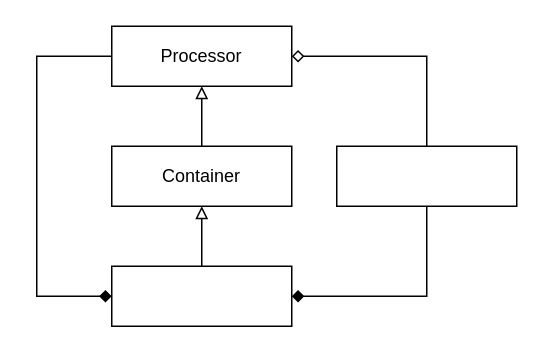
Some shapes in this 543 by 353 pixel diagram are drawn without their labels. Each missing label, with the centre of its shape:
Link: the point at 426,175
Sequence: the point at 201,295
